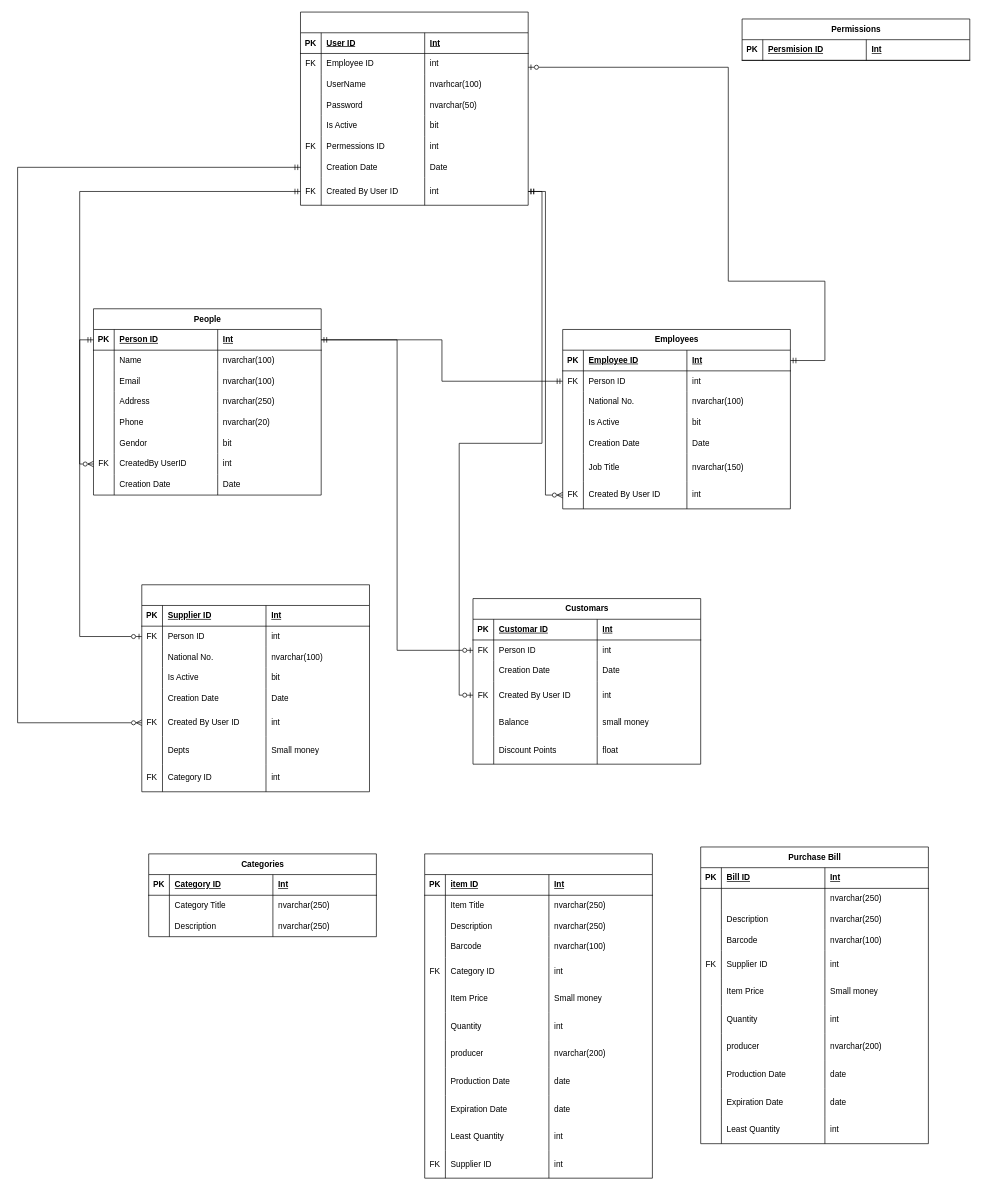
This 982x1190 diagram has some shape labels left out. The box of each missing label's shape, as (x1, y1, x2, y2) in pixels:
Items: (424, 853, 652, 1178)
Users: (300, 11, 528, 205)
ٍSuppliers: (141, 584, 369, 792)
